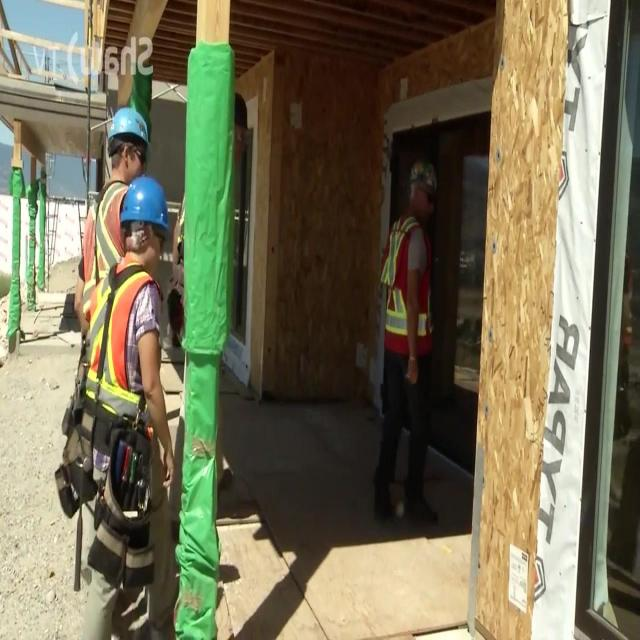Reflective-Jacket: (67, 254, 170, 496), (372, 211, 442, 393), (68, 177, 140, 340)
Safety-Helmet: (115, 168, 173, 238), (100, 100, 156, 158), (404, 150, 443, 204)
